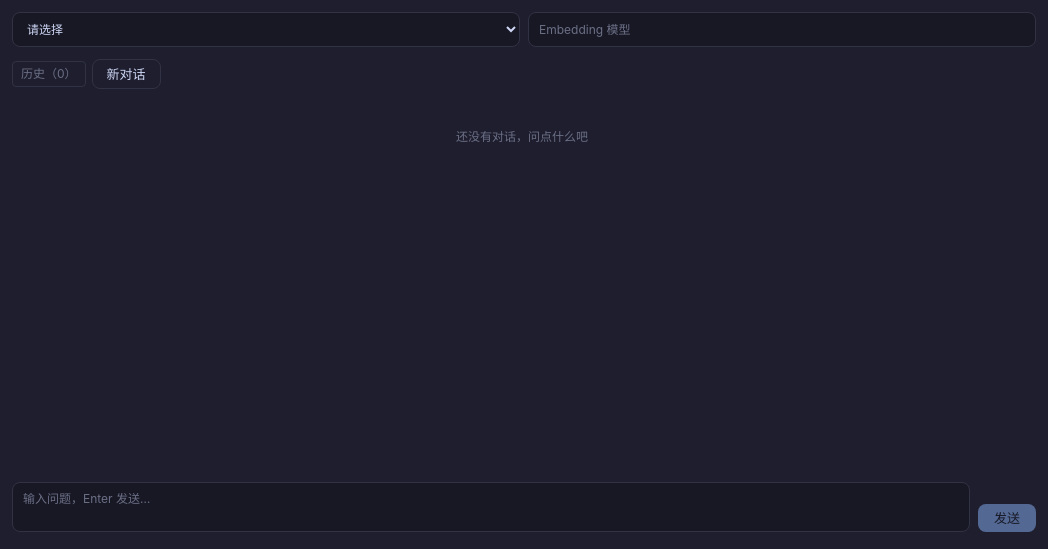
Test case: §330 问答历史那一读：三种到货分开判 › 正向对照：成功那趟照常把历史消息画出来、不发提示
The image size is (1048, 549).
Click the button "历史（0）" at (49, 74), box [12,61,86,87]
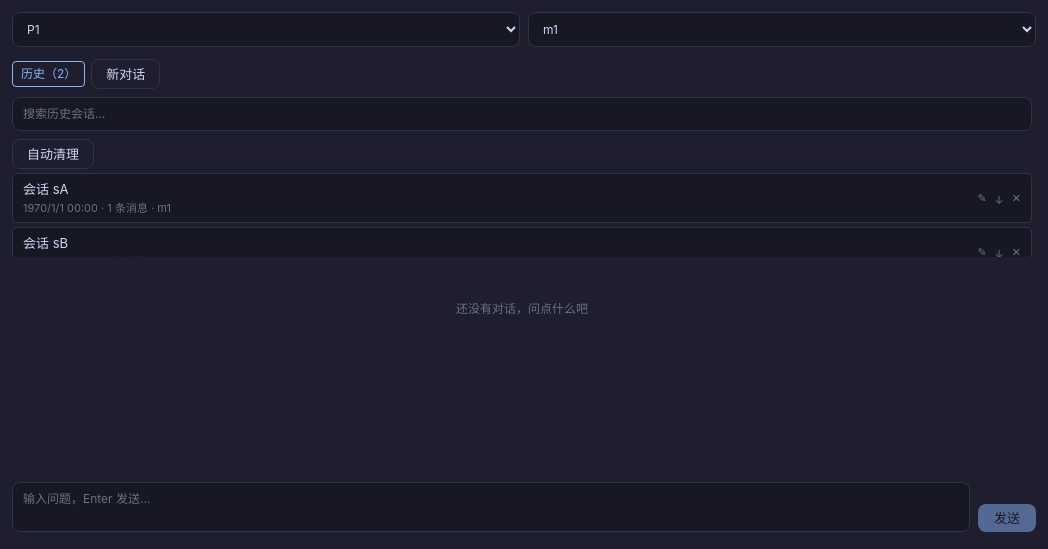
Expected: the text "会话 sA" is shown
Click the text "会话 sA" at (46, 189), box [23,181,68,197]
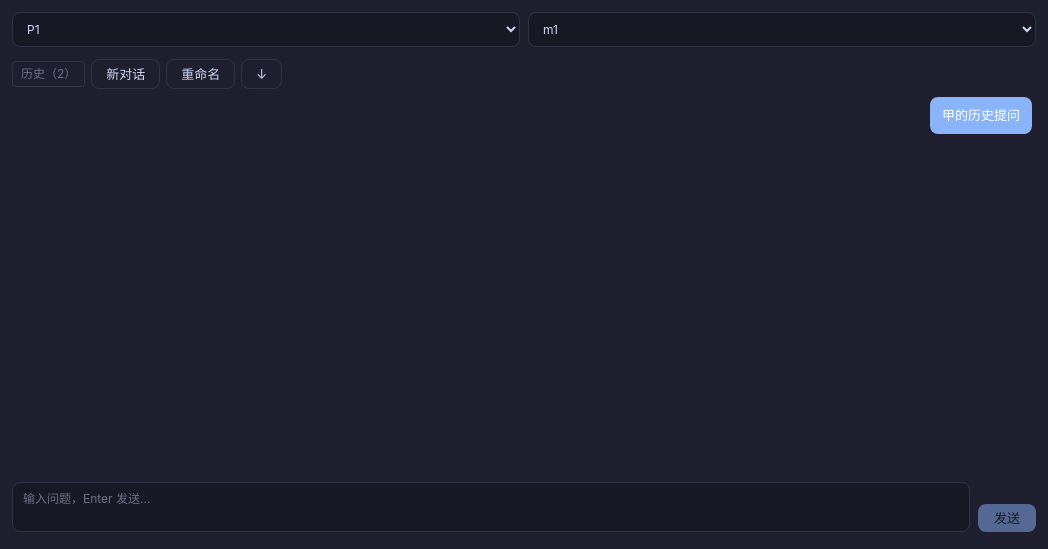
Expected: the text "甲的历史提问" is shown, [930,97,1032,134]
